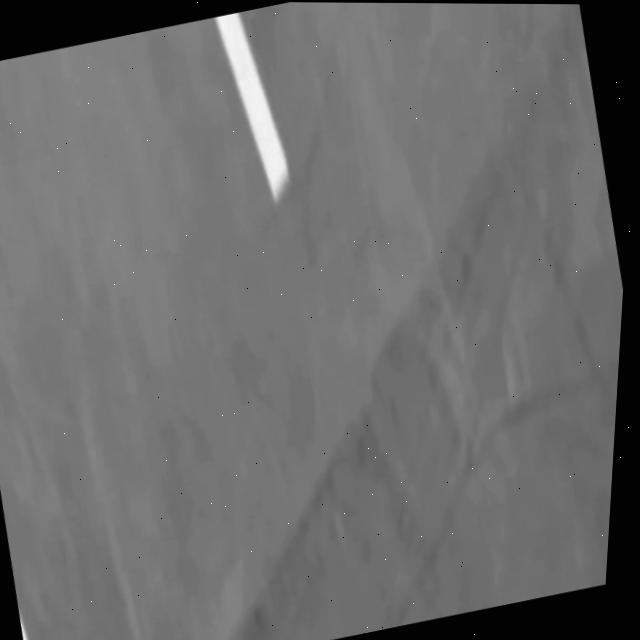center: (213, 12, 288, 201)
